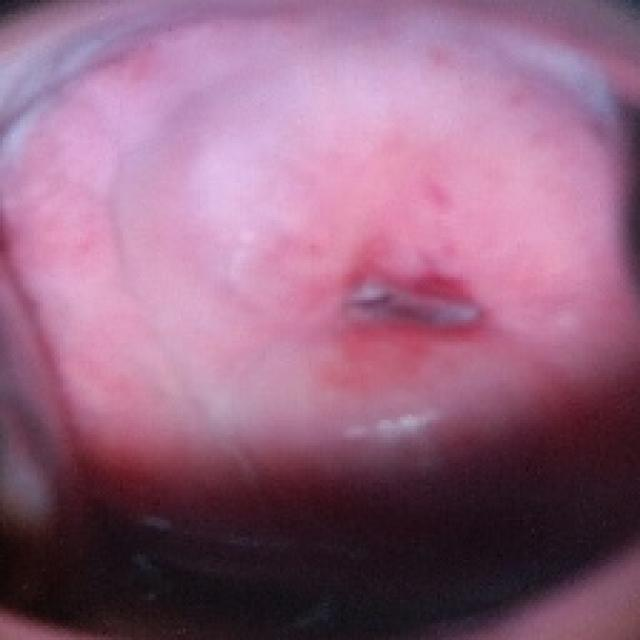type-2: (31, 47, 632, 550)
